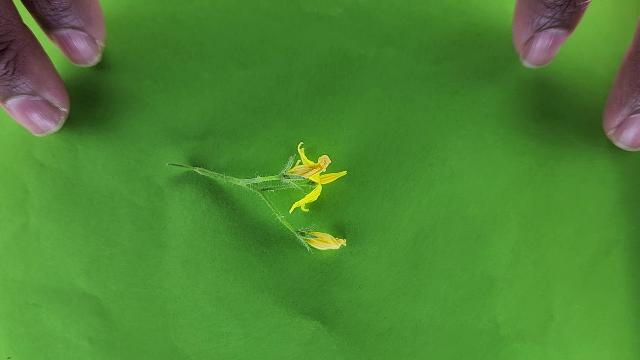Anthesis: (284, 143, 346, 215), (295, 225, 347, 251)
